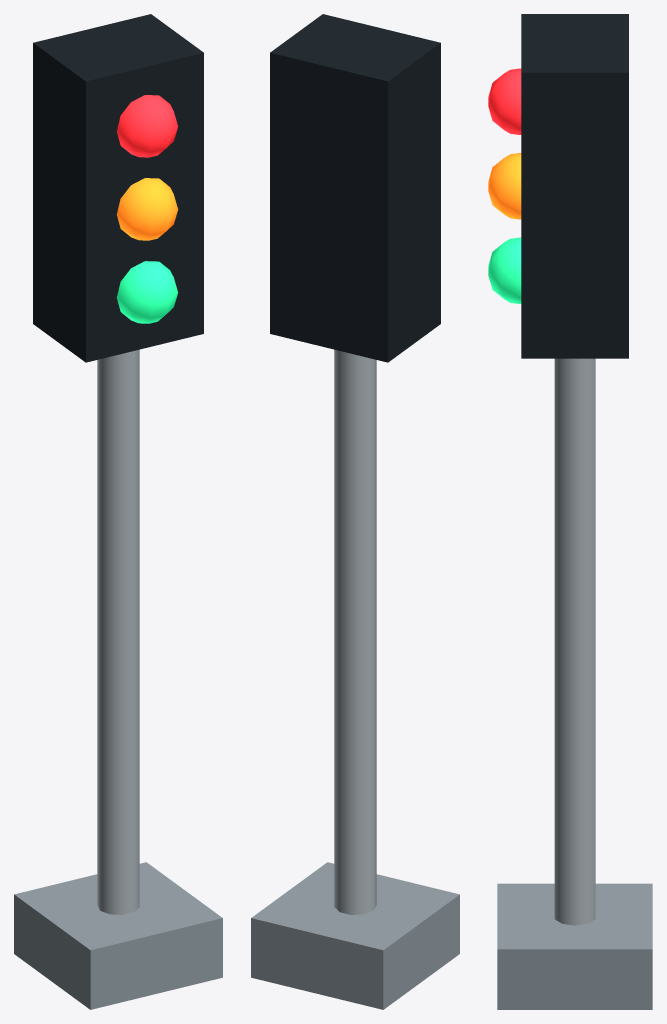
The model's file is traffic-signal.glb.
3 renders of one model, left to right at view 1: azimuth 30°, elevation 25°; view 2: azimuth 150°, elevation 25°; view 3: azimuth 270°, elevation 25°, orthographic.
Parts seen in each view (by area): view 1: traffic_signal_head, traffic_signal_pole, traffic_signal_base, traffic_signal_green, traffic_signal_red, traffic_signal_amber; view 2: traffic_signal_head, traffic_signal_pole, traffic_signal_base; view 3: traffic_signal_head, traffic_signal_pole, traffic_signal_base, traffic_signal_red, traffic_signal_amber, traffic_signal_green.
Part boxes in pixels (x1,y1,x2,y2): traffic_signal_head: (33, 14, 203, 362); traffic_signal_pole: (97, 349, 139, 914); traffic_signal_base: (14, 862, 222, 1009); traffic_signal_green: (116, 261, 178, 323); traffic_signal_red: (117, 95, 177, 157); traffic_signal_amber: (117, 178, 178, 240); traffic_signal_head: (270, 14, 440, 362); traffic_signal_pole: (334, 349, 376, 914); traffic_signal_base: (251, 862, 459, 1009); traffic_signal_head: (521, 14, 628, 358); traffic_signal_pole: (554, 358, 595, 925); traffic_signal_base: (497, 883, 652, 1009); traffic_signal_red: (488, 68, 521, 134); traffic_signal_amber: (488, 153, 521, 219); traffic_signal_green: (488, 237, 521, 303).
Size of the model in its own units: 0.65 by 4.31 by 0.6881.
